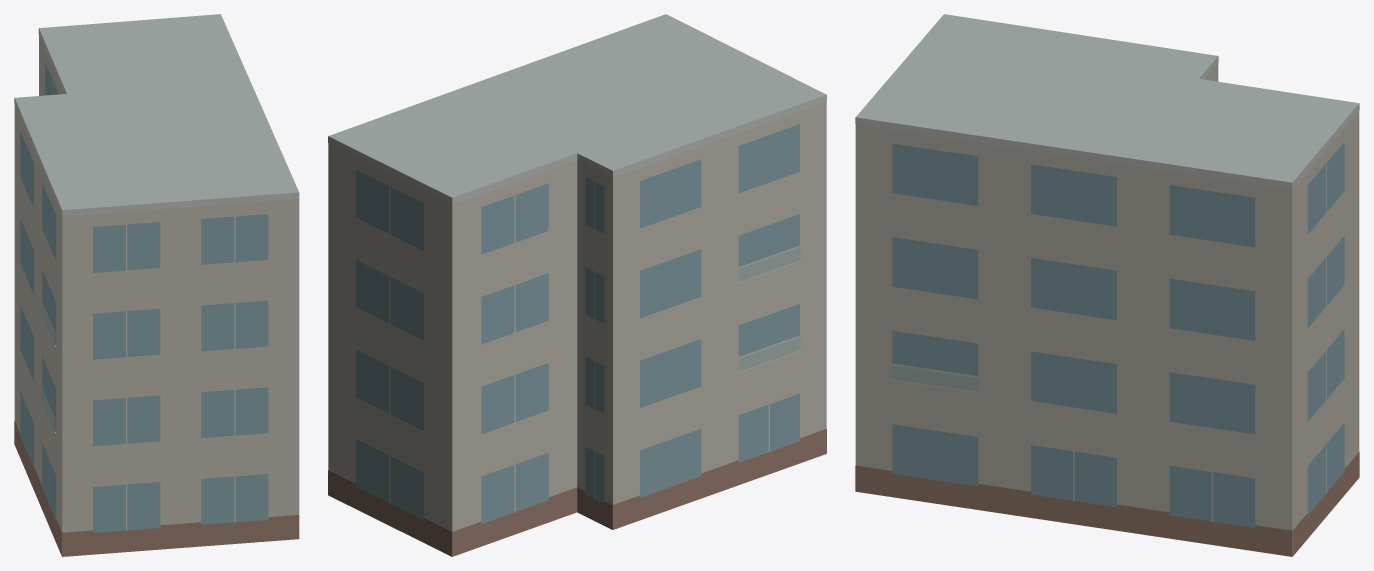
The model's file is survey-upis-32891079.glb.
3 renders of one model, left to right at view 1: azimuth 30°, elevation 25°; view 2: azimuth 150°, elevation 25°; view 3: azimuth 270°, elevation 25°, orthographic. The views are drawn at different scales.
Parts seen in each view (by area): view 1: survey-upis-32891079.tmp; view 2: survey-upis-32891079.tmp; view 3: survey-upis-32891079.tmp.
Part boxes in pixels (x1,y1,x2,y2): survey-upis-32891079.tmp: [14, 14, 299, 556]; survey-upis-32891079.tmp: [328, 14, 826, 556]; survey-upis-32891079.tmp: [855, 14, 1359, 556].
Bounding box in the file's own units: 12.38 × 12.8 × 15.63.
